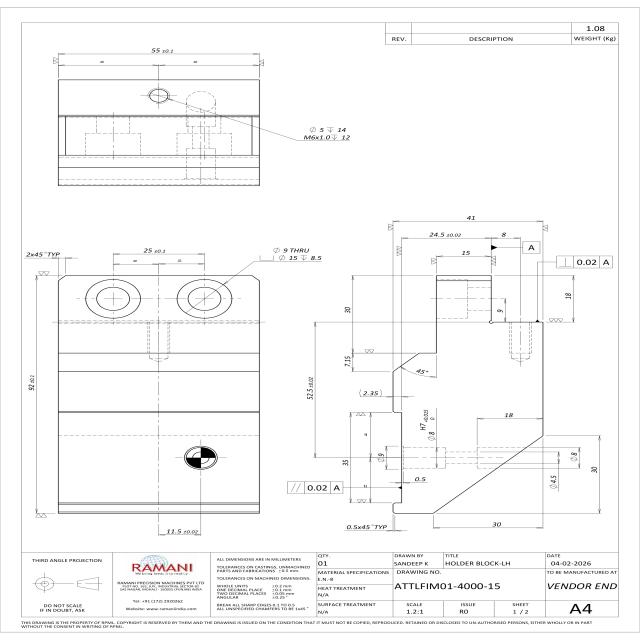dimension: (300, 125, 352, 142), (271, 246, 325, 262), (418, 408, 436, 442), (25, 251, 62, 258), (345, 524, 388, 530), (358, 388, 383, 398), (166, 528, 199, 535), (306, 375, 314, 401), (428, 231, 462, 237), (150, 46, 175, 54), (142, 247, 168, 254), (548, 473, 558, 490), (26, 374, 35, 392), (375, 452, 386, 464), (413, 368, 431, 375), (413, 475, 428, 483), (343, 355, 352, 368), (570, 451, 578, 463), (465, 214, 478, 221), (341, 458, 350, 468), (491, 521, 503, 528), (564, 292, 574, 300), (342, 306, 352, 314), (460, 249, 471, 256), (503, 412, 515, 418), (590, 466, 599, 474), (500, 231, 507, 238), (496, 308, 504, 314)
